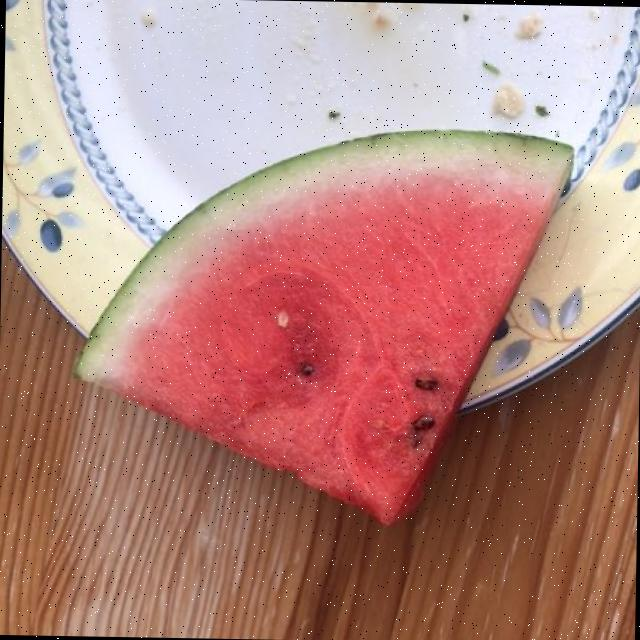watermelon-fresh: (80, 133, 552, 497)
